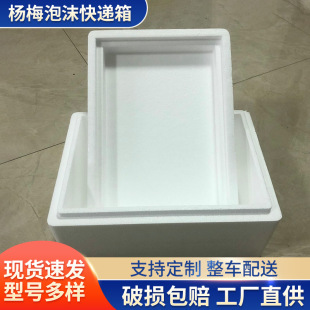Boxes: (48, 29, 281, 255)
